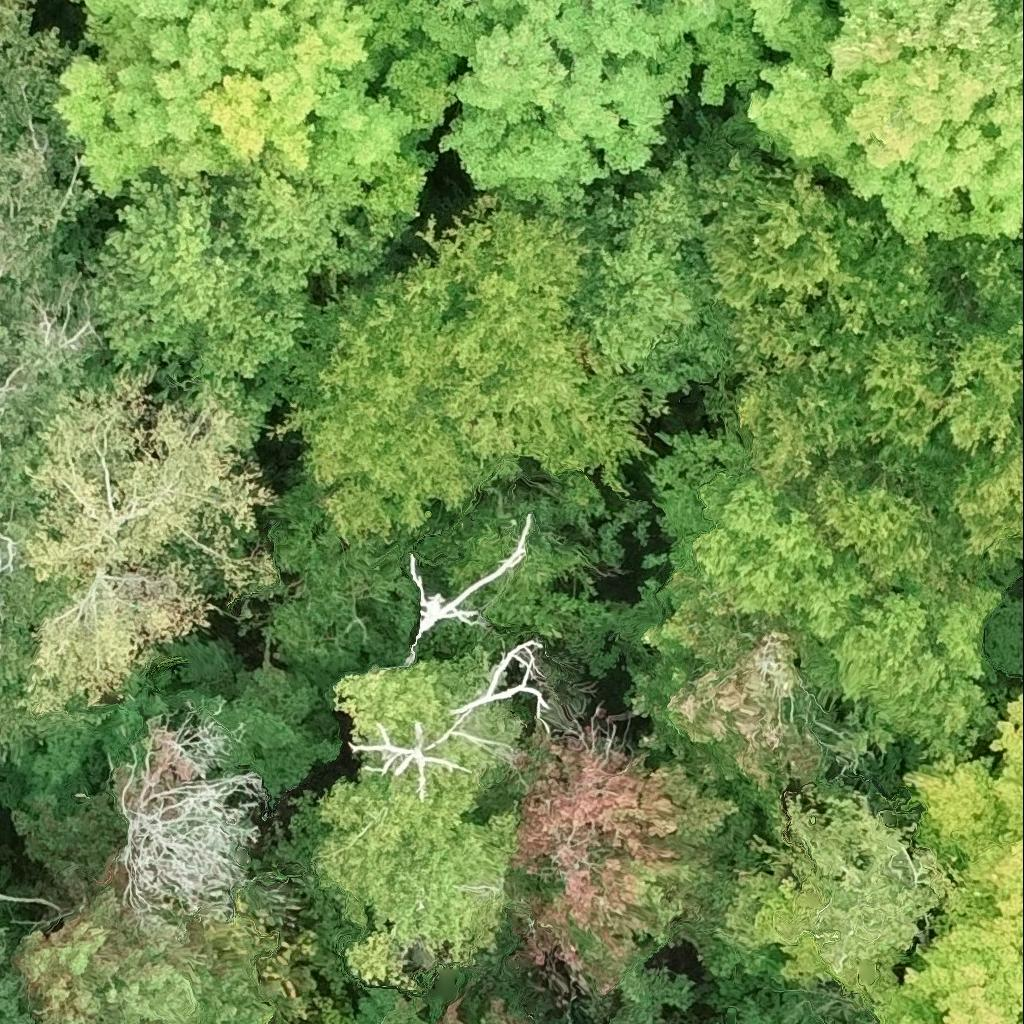crown: (700, 162, 1023, 589), (278, 199, 668, 540), (679, 472, 1006, 769), (24, 355, 278, 718), (52, 0, 456, 196), (312, 652, 515, 994), (751, 0, 1023, 245), (510, 721, 739, 1003), (432, 0, 689, 221), (709, 786, 958, 1009), (872, 690, 1023, 1023), (634, 596, 837, 801), (17, 899, 336, 1023), (579, 163, 739, 398), (116, 712, 262, 930), (403, 505, 530, 668), (671, 0, 817, 102), (372, 986, 426, 1023), (440, 1001, 528, 1023), (0, 985, 31, 1023), (0, 547, 4, 639), (0, 929, 4, 957), (0, 385, 4, 404)
